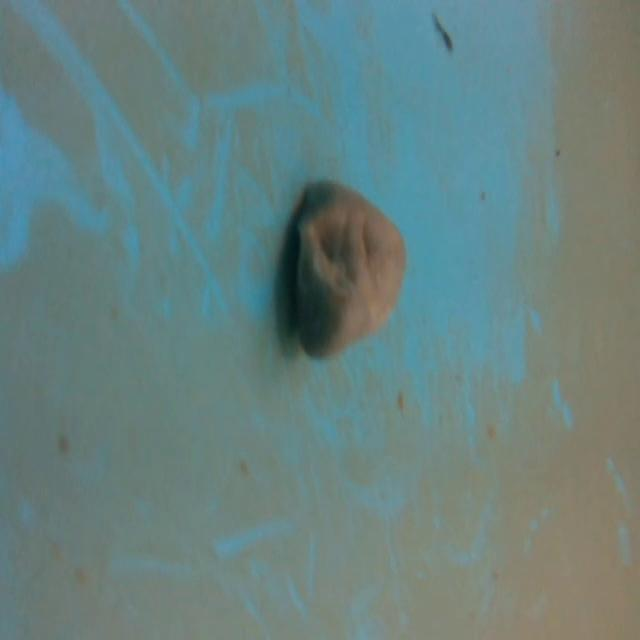rock: (284, 168, 410, 364)
